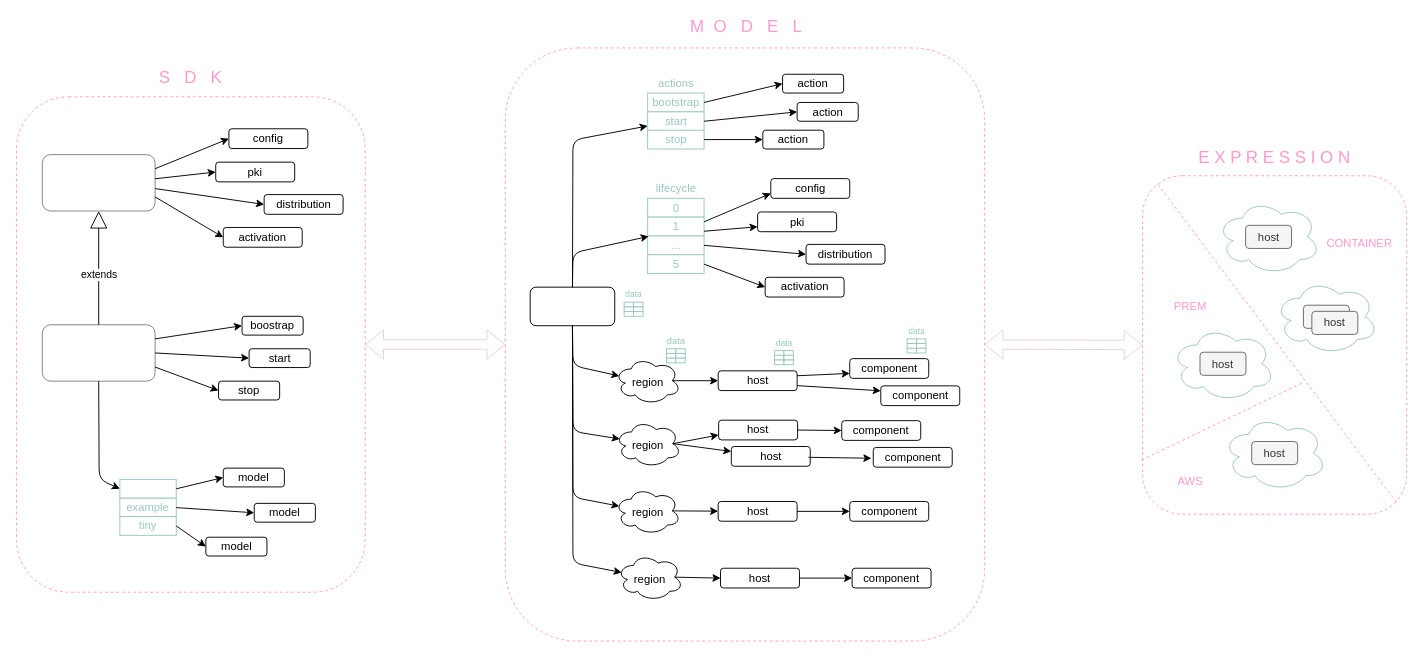
The diagram is 1423 pixels wide and 657 high, and some of its shapes have lost their labels. Here are the shapes that lost their labels. From the top down, the box of each, then its label:
(41, 154, 155, 211): fablab (SDK)
(529, 286, 615, 326): "example"
(41, 324, 155, 381): zitilab
(119, 478, 176, 498): diamond
